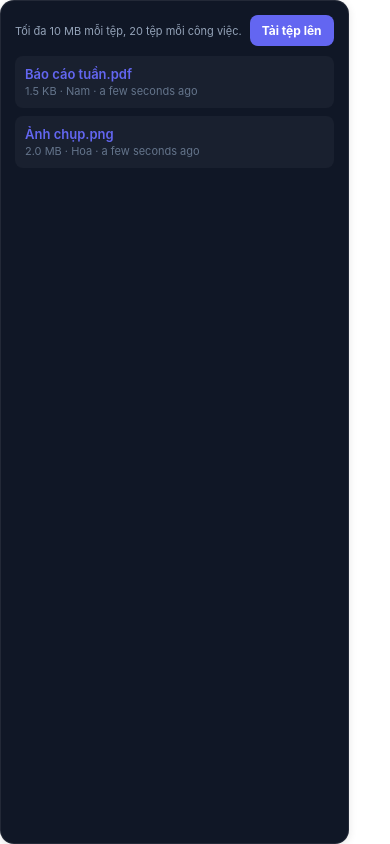
server từ chối thì hiện đúng lý do của server
The width and height of the screenshot is (390, 844).
Expected: the text "Báo cáo tuần.pdf" is shown, [25,66,132,82]
Click the text "Tải tệp lên".
click(292, 30)  # box [262,23,322,38]
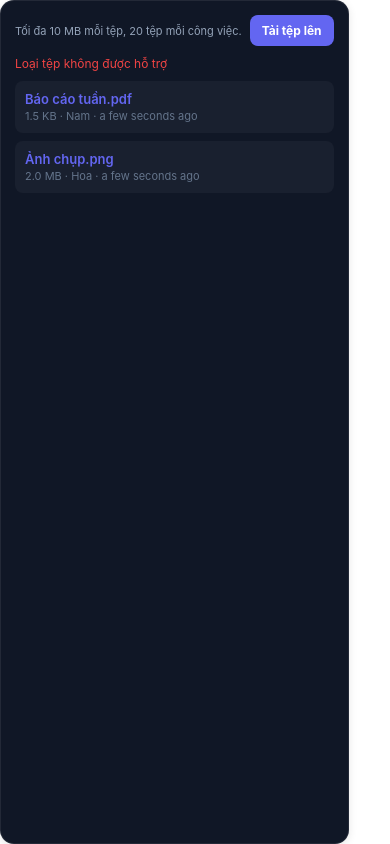
Result: the text "Loại tệp không được hỗ trợ" is shown at [15,56,167,71]
